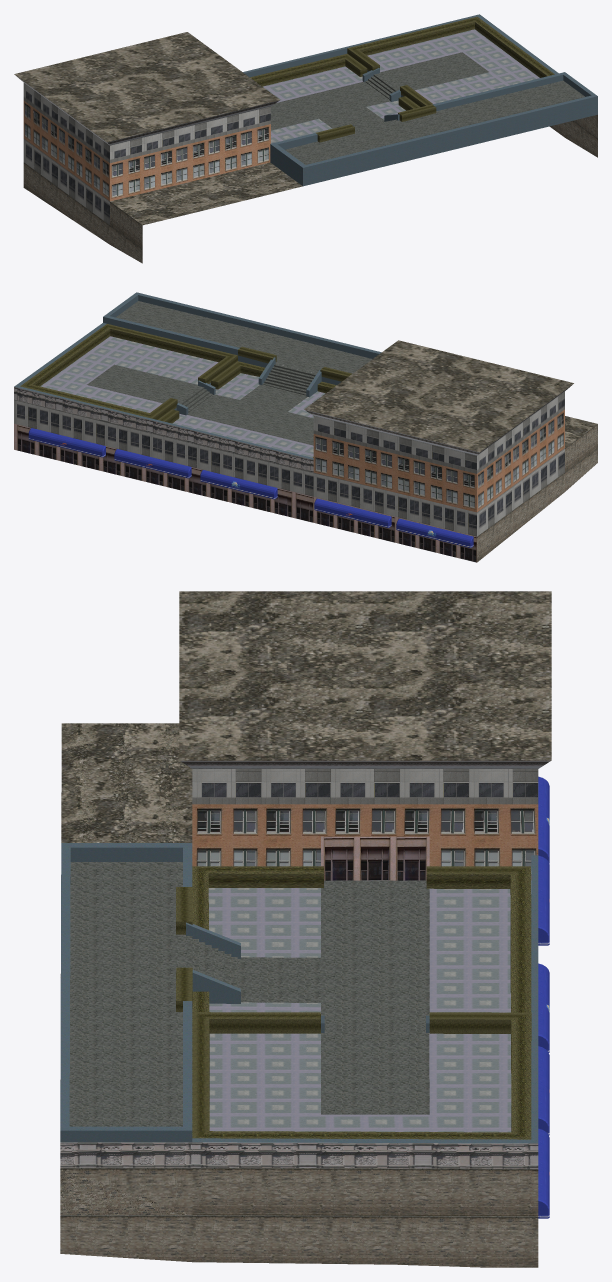
File: dwntwnbit1_las.obj
3 views of the same model, one above another, from view 1: azimuth 30°, elevation 25°; view 2: azimuth 150°, elevation 25°; view 3: azimuth 270°, elevation 25° (orthographic). The views are drawn at different scales.
Visible parts, largest first — view 1: dwntwnbit1_LAS; view 2: dwntwnbit1_LAS; view 3: dwntwnbit1_LAS.
Boxes of the visible parts, x1,y1,x2,y2 form: dwntwnbit1_LAS: (14, 14, 597, 263); dwntwnbit1_LAS: (14, 292, 597, 562); dwntwnbit1_LAS: (60, 591, 551, 1267).
Bounding box in the file's own units: 84.69 × 19.7 × 38.96.
